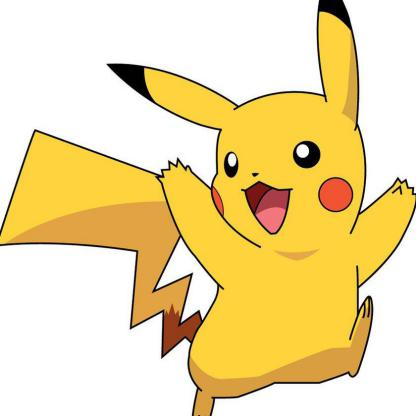Pikachu: (5, 1, 416, 416)
